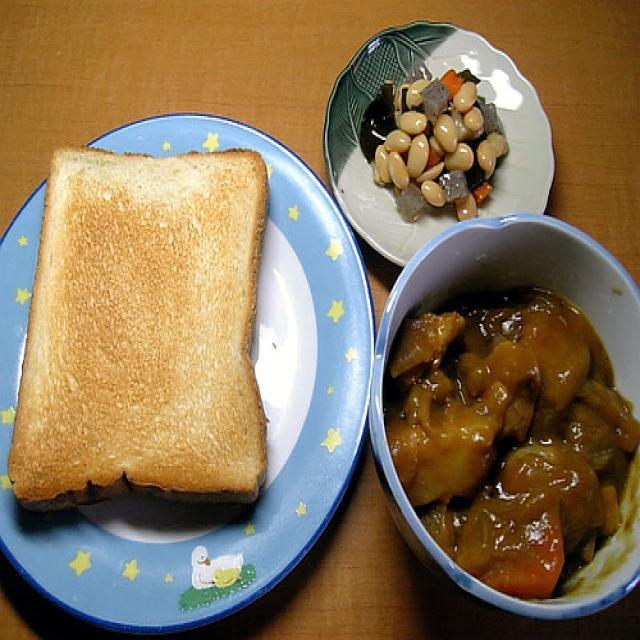Beef Curry: (403, 277, 618, 574)
